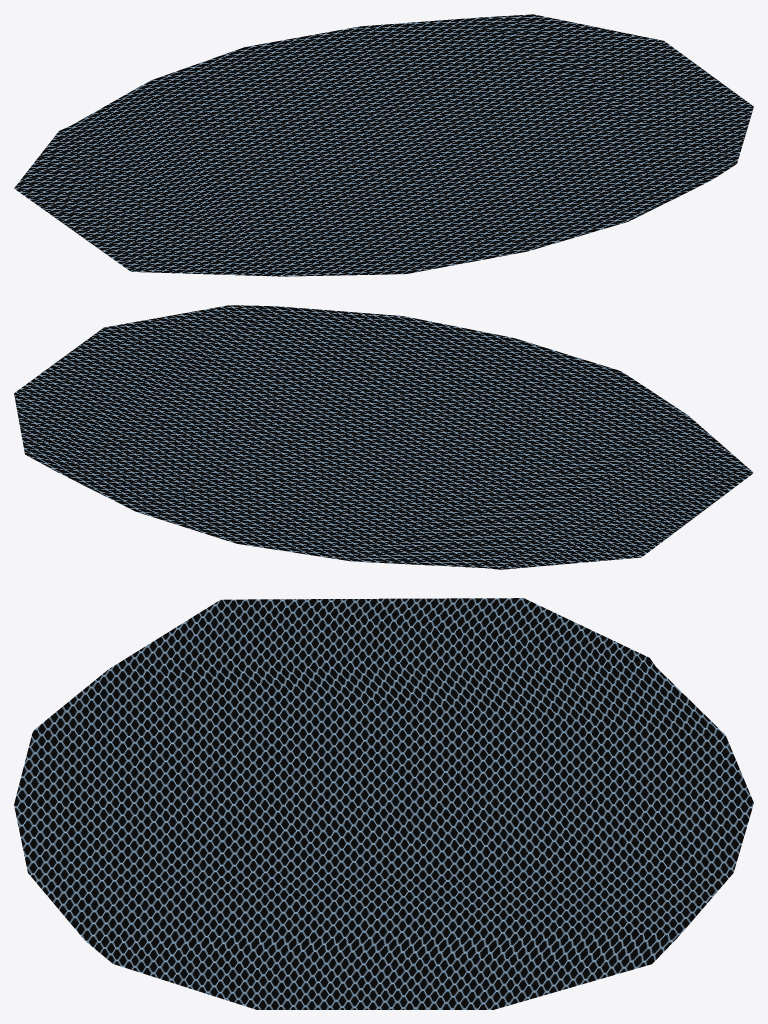
Rendered from RacketNet.fbx.
3 renders of one model, top to bottom at view 1: azimuth 30°, elevation 25°; view 2: azimuth 150°, elevation 25°; view 3: azimuth 270°, elevation 25°, orthographic. The views are drawn at different scales.
Parts seen in each view (by area): view 1: Plane; view 2: Plane; view 3: Plane.
Part boxes in pixels (x1=…): Plane: x1=14, y1=14, x2=753, y2=276; Plane: x1=14, y1=305, x2=753, y2=569; Plane: x1=14, y1=598, x2=753, y2=1009.
Size of the model in its own units: 4.69 by 0 by 3.56.
